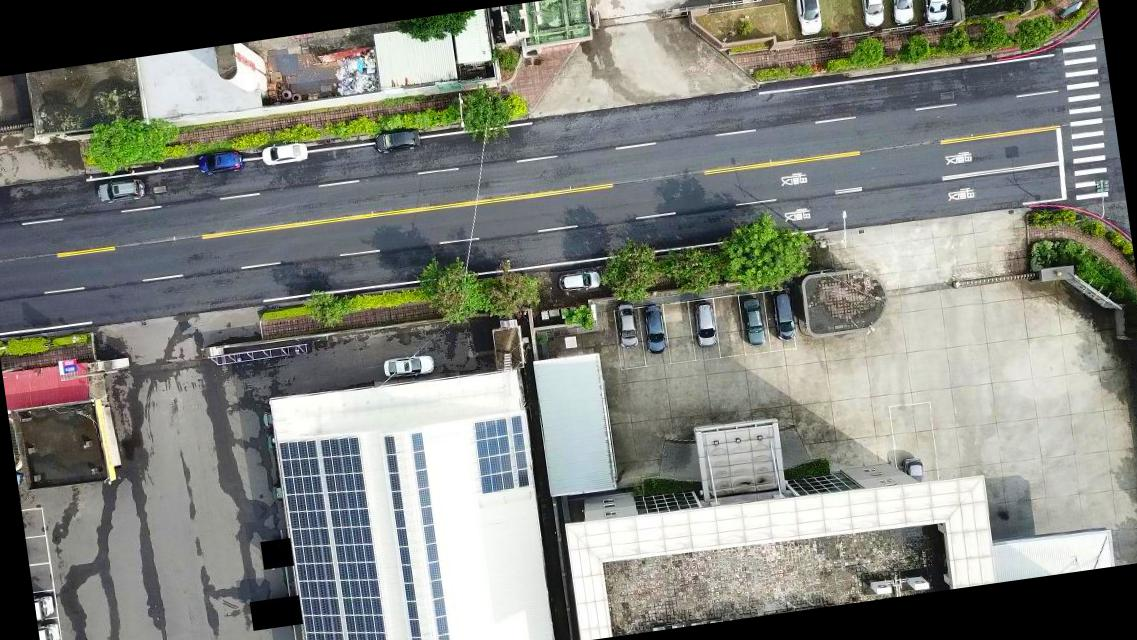vehicle: (95, 176, 148, 208), (638, 301, 668, 355), (768, 292, 798, 344), (740, 294, 767, 348), (384, 352, 436, 380), (555, 266, 603, 296), (690, 300, 718, 350), (261, 141, 309, 169), (196, 148, 243, 176), (374, 127, 422, 154), (791, 0, 825, 38), (614, 302, 640, 351), (884, 0, 921, 27), (900, 456, 930, 487), (918, 0, 955, 25), (858, 0, 887, 29)
